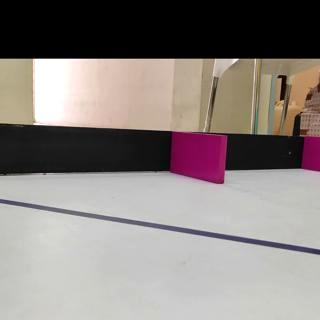xparking: (172, 132, 223, 180), (305, 136, 320, 166)
